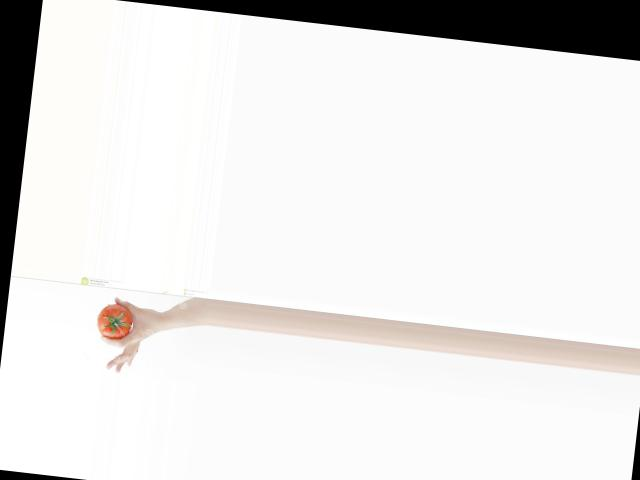tomato: (95, 302, 134, 340)
